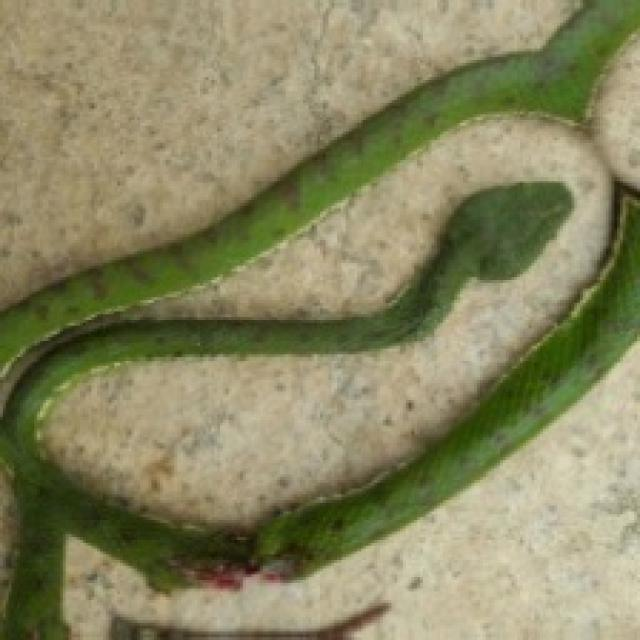philippine pitviper: (0, 183, 637, 637), (0, 0, 637, 363)
